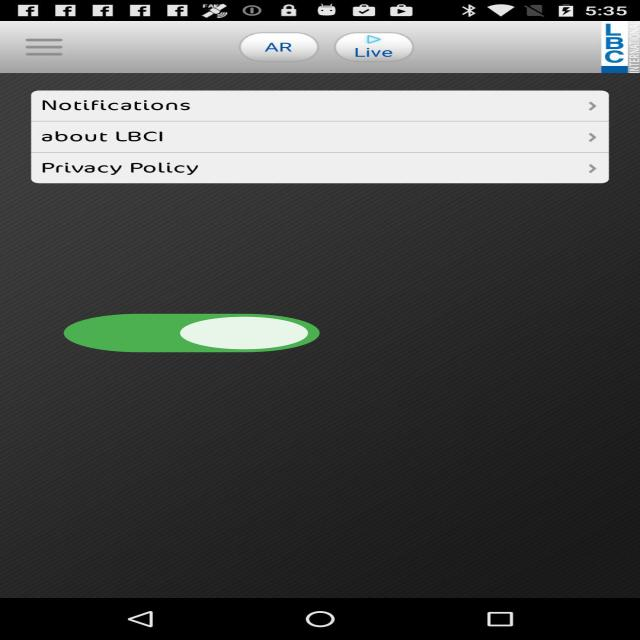social proof: (52, 299, 331, 370)
